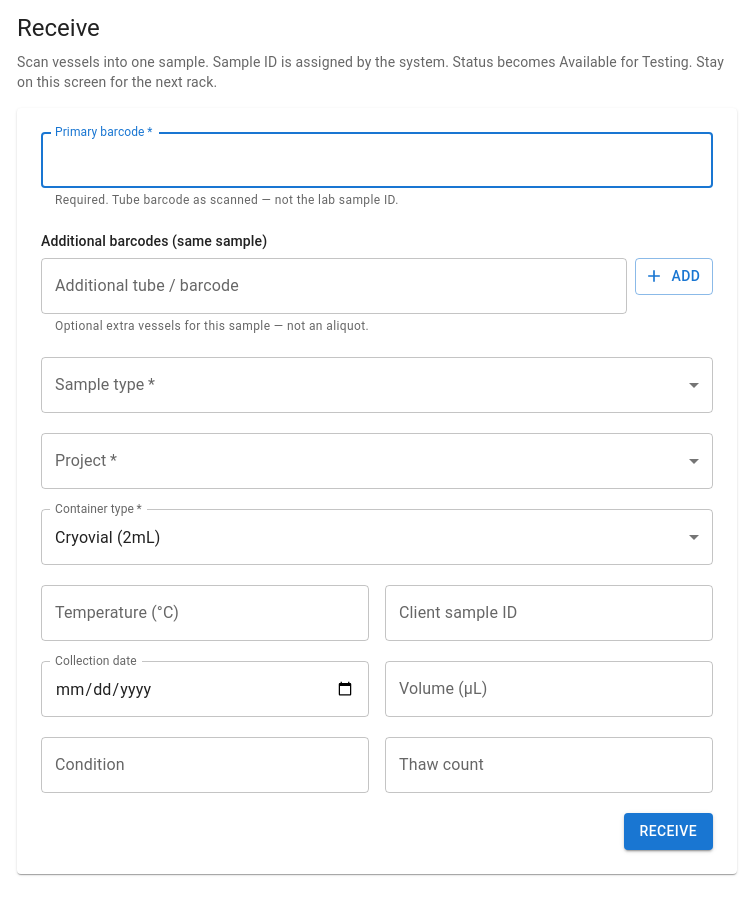
AtomicReceive › adds additional barcode chips
Expected: the field with test id "primary-barcode" is shown, [41,132,713,188]
Type "NBIO-EXTRA-1" into the field with test id "additional-barcode-draft" at (334, 286), box [41,258,627,314]
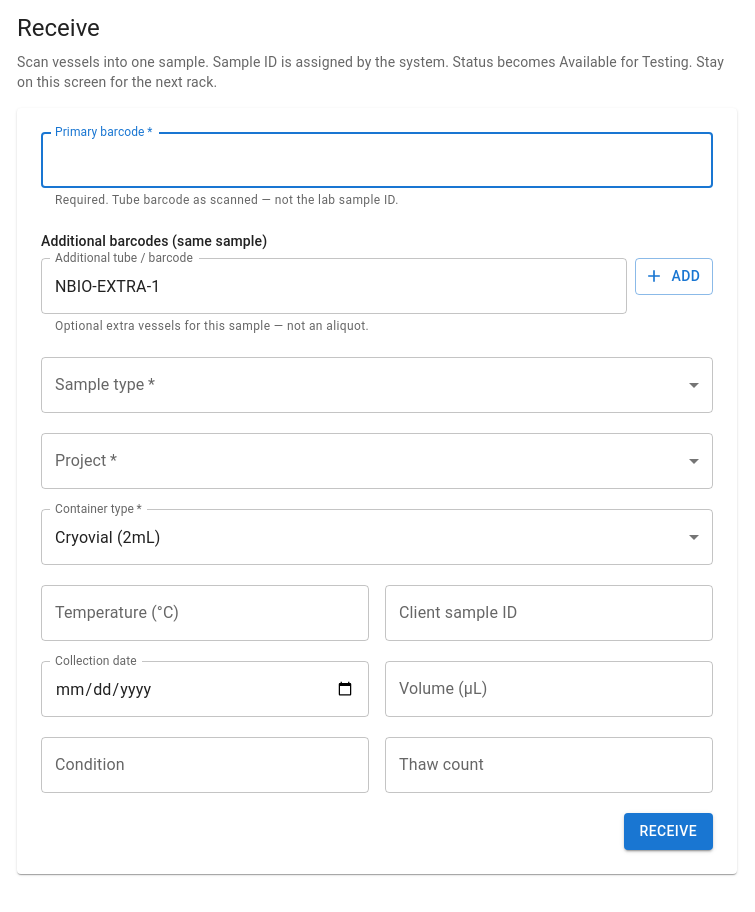
Click the button with aria-label "Add additional barcode" at (674, 276), box [635,258,713,295]
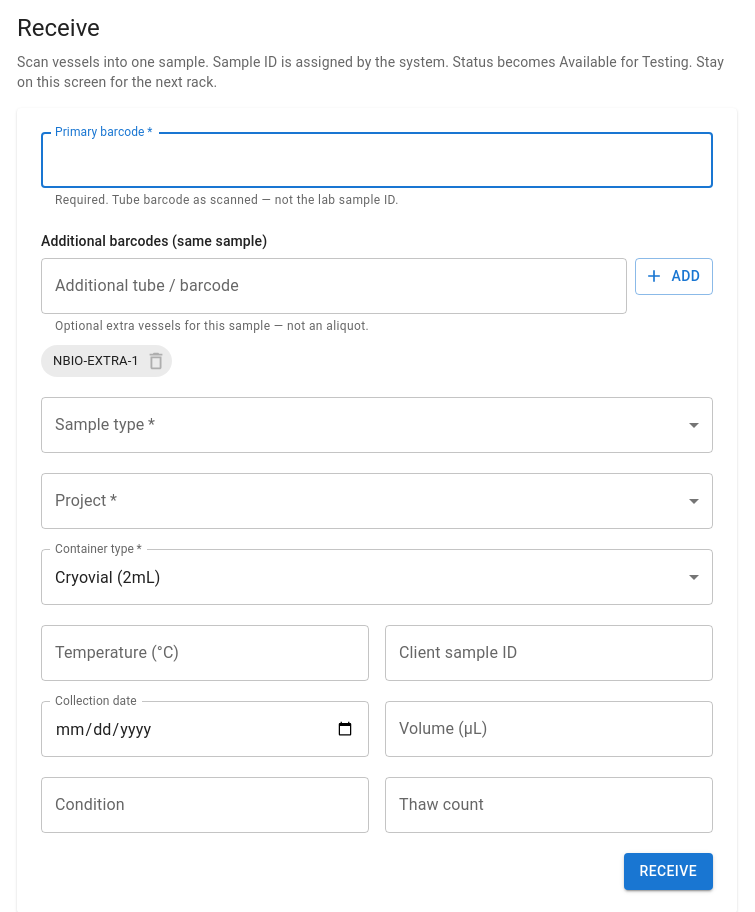
Now the button with test id "extra-barcode-NBIO-EXTRA-1" is shown, box [41,345,172,377]
